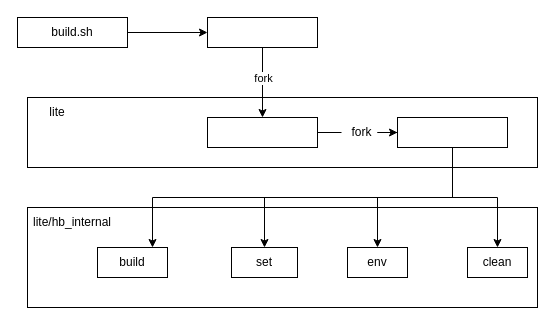
Image size: 555x325. Some labels were removed from this diagram. Here are the shapes that lost their labels. From the top down, the centre of each, then its label:
At point 262,32: "entry.py".
At point 262,132: "lite/build.py".
At point 452,132: "lite/hb/__main__.py".
